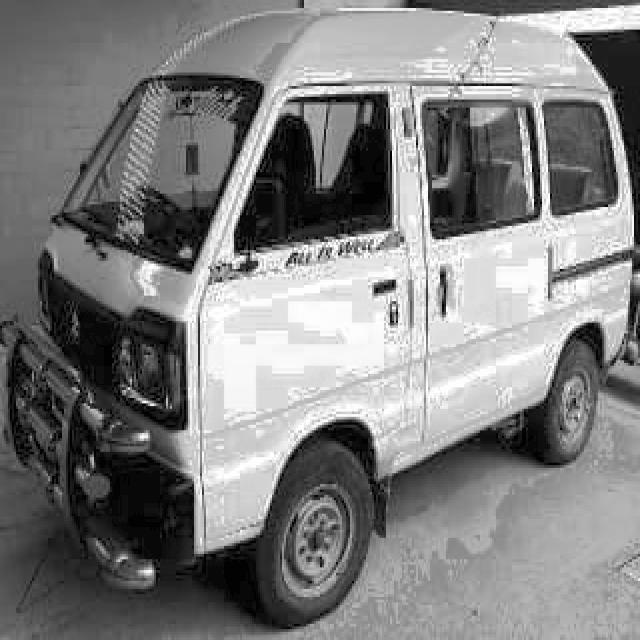LCV: (2, 13, 634, 624)
